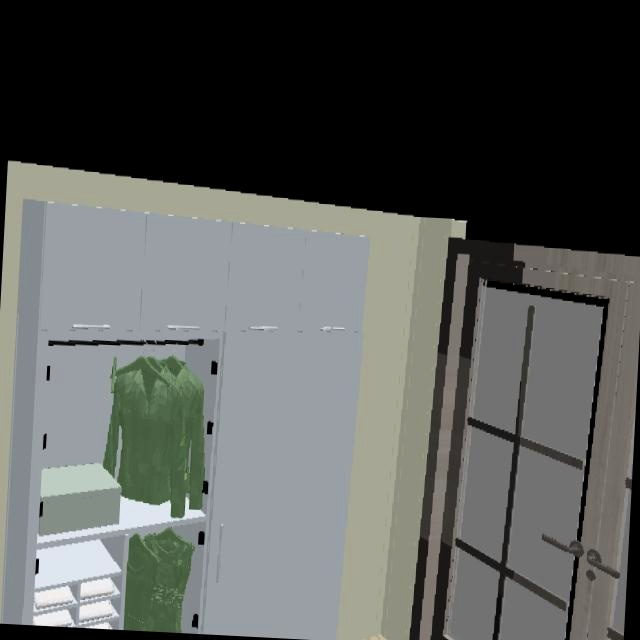wardrobe: (0, 200, 371, 640)
